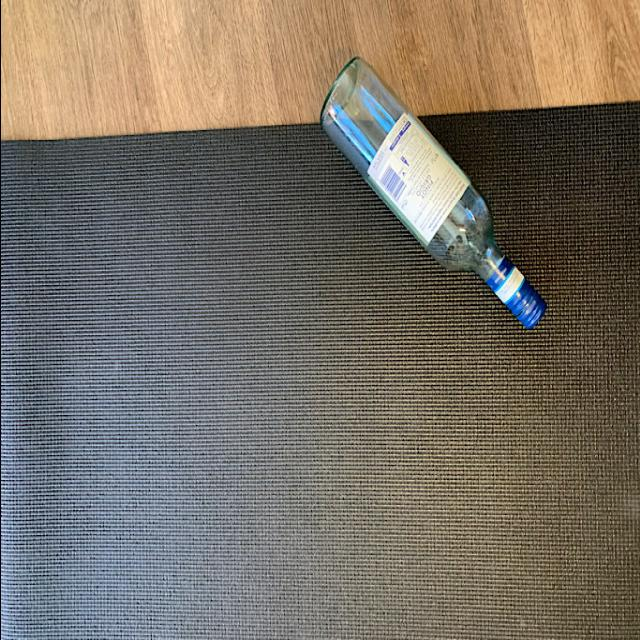Glass Bottle: (312, 56, 544, 332)
